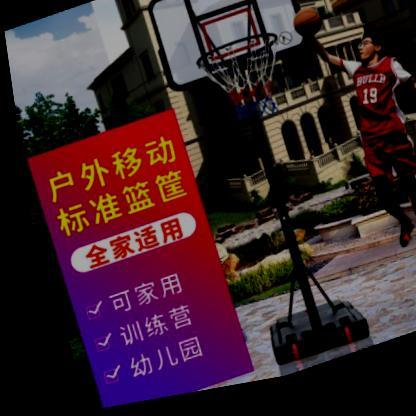basketball: (286, 14, 322, 52)
rim: (192, 33, 296, 141)
